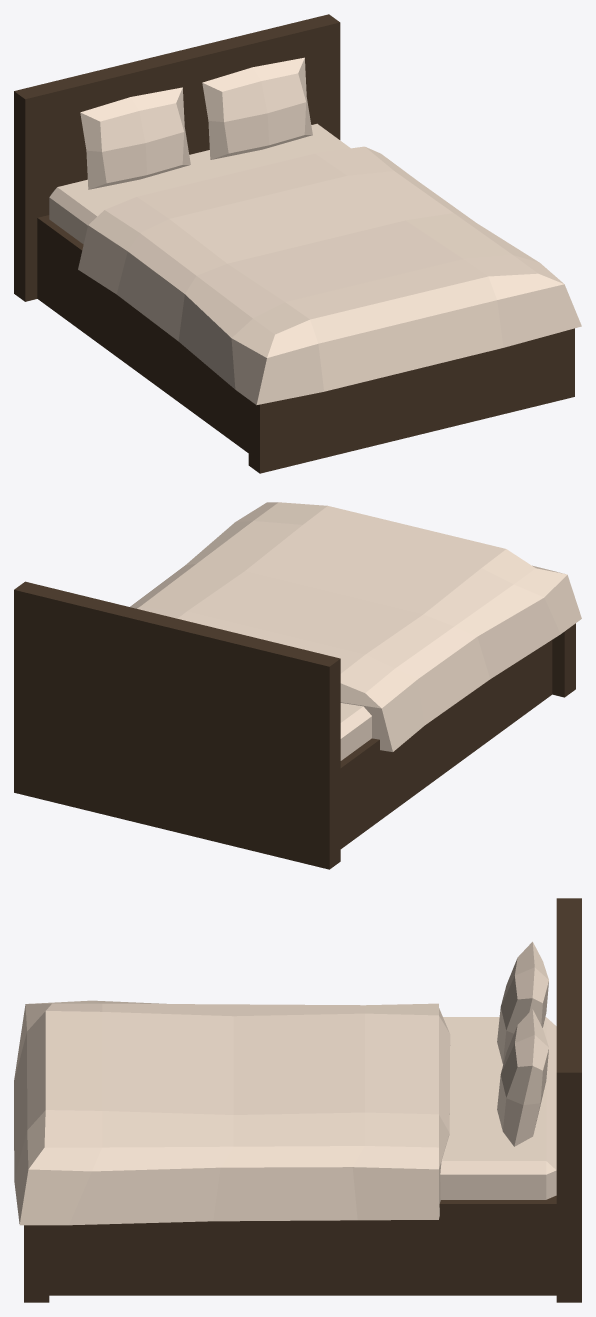
File: bed-large.glb
3 renders of one model, top to bottom at view 1: azimuth 30°, elevation 25°; view 2: azimuth 150°, elevation 25°; view 3: azimuth 270°, elevation 25°, orthographic. The views are drawn at different scales.
Visible parts, largest first — view 1: bed-large; view 2: bed-large; view 3: bed-large.
Boxes of the visible parts, box(x1,y1,x2,y2) form: bed-large: box(14, 14, 581, 473); bed-large: box(14, 502, 581, 869); bed-large: box(14, 898, 581, 1302).
Size of the model in its own units: 1.68 by 1 by 2.24.
1 material, 1 textured.
